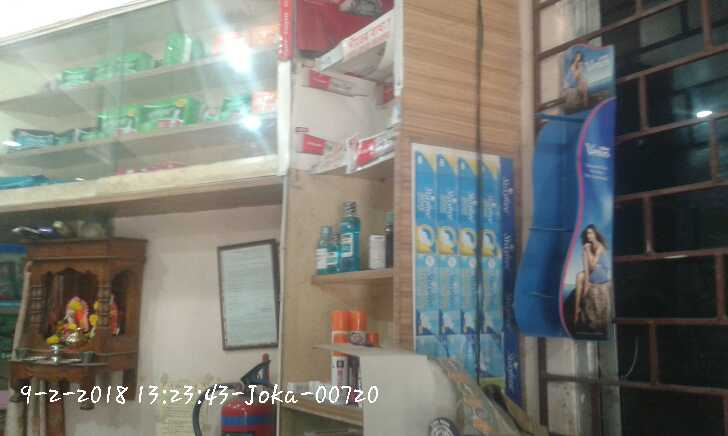reject: (342, 134, 400, 176)
